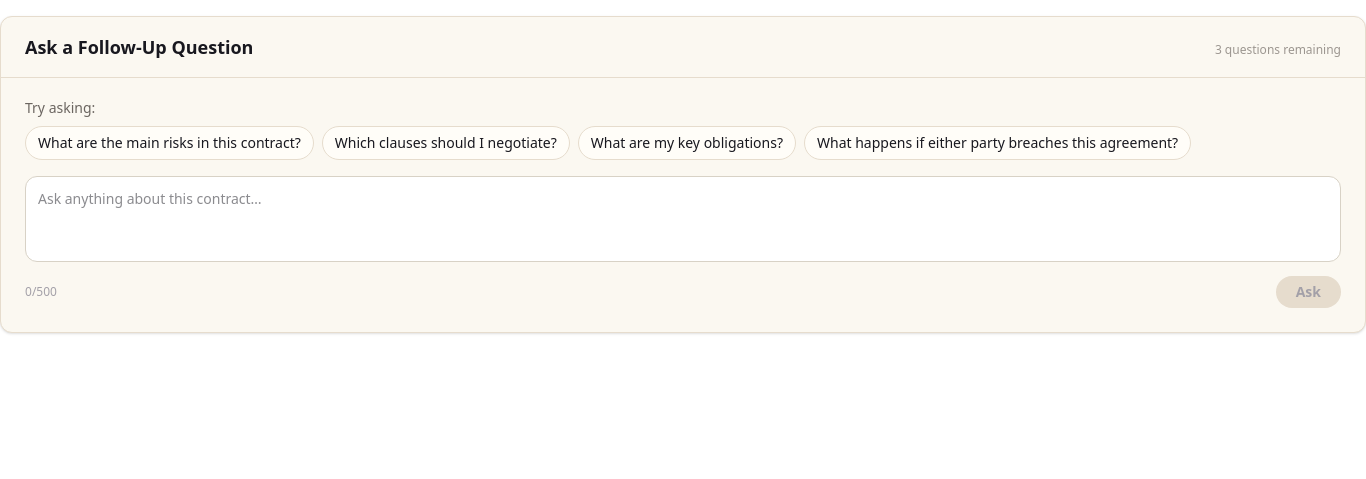
Test case: FollowUpInput › renders cited clause chips that are clickable
In the text box named "Follow-up question": (683, 219) [25, 176, 1341, 262], type "Explain clause-1"
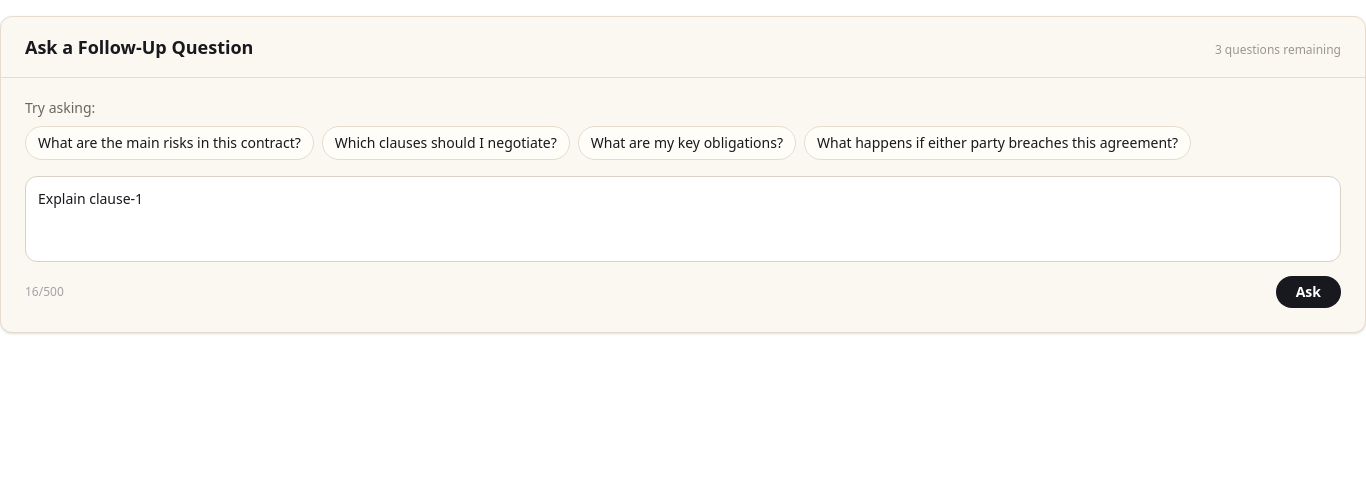
Click the button "Ask": (1308, 292) [1276, 276, 1341, 308]
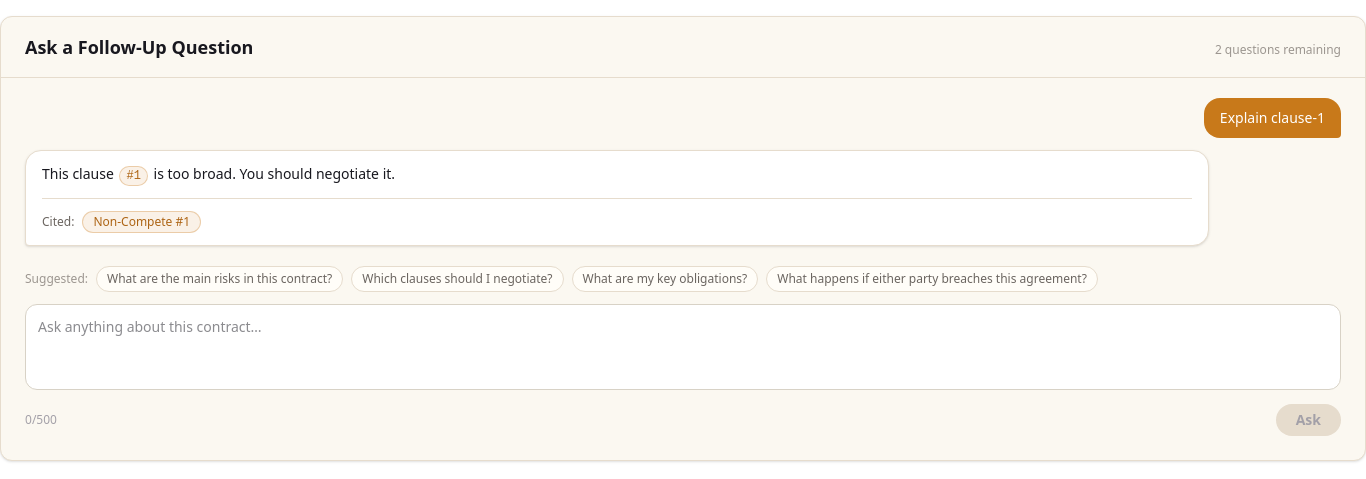
Result: the text "Cited:" is shown at [42, 214, 74, 230]
Result: the button "Non-Compete #1" is shown at [82, 211, 201, 233]
Result: the button "#1" is shown at [120, 166, 148, 186]
